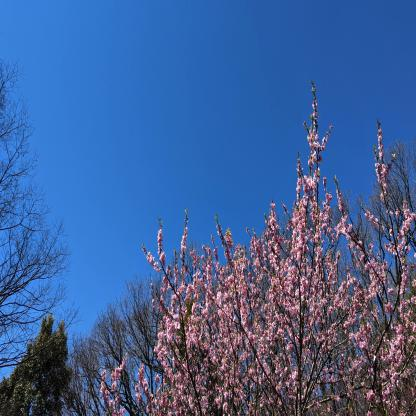Ume: (96, 77, 416, 416)
